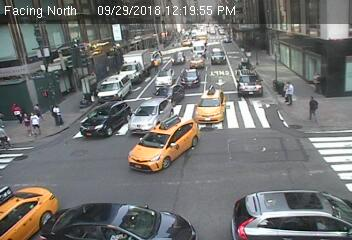car: (224, 187, 352, 239), (40, 199, 186, 240), (132, 115, 197, 171), (1, 187, 59, 240), (81, 99, 130, 136), (128, 96, 174, 133), (195, 87, 231, 124), (119, 49, 151, 83), (98, 75, 133, 100), (236, 73, 263, 95), (180, 68, 201, 89), (157, 65, 175, 86), (193, 38, 211, 56), (211, 47, 227, 64), (238, 59, 252, 72), (189, 52, 203, 65), (180, 37, 193, 49), (221, 35, 233, 43)
